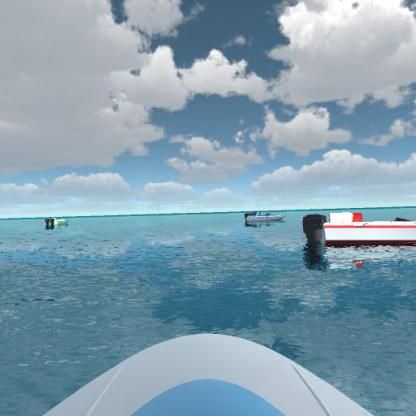usv0: (40, 209, 71, 232)
usv1: (239, 206, 288, 229)
usv3: (302, 209, 416, 259)
